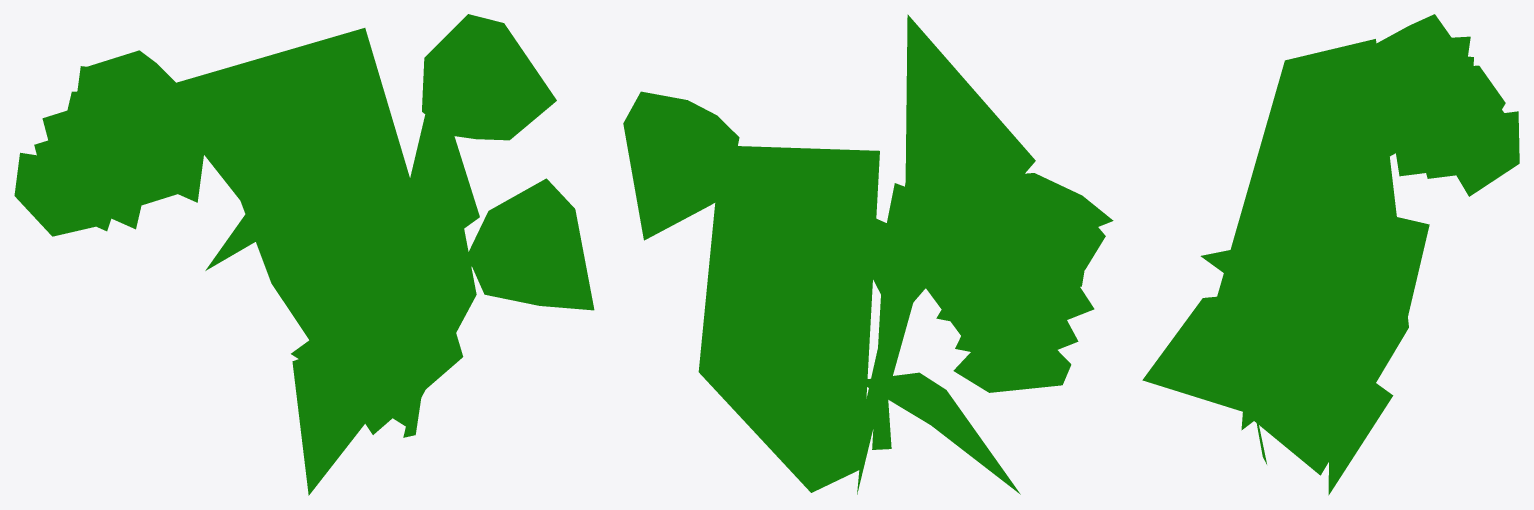
The model's file is Deathbells_1.fbx.
3 renders of one model, left to right at view 1: azimuth 30°, elevation 25°; view 2: azimuth 150°, elevation 25°; view 3: azimuth 270°, elevation 25°, orthographic. The views are drawn at different scales.
Parts seen in each view (by area): view 1: Deathbells_1; view 2: Deathbells_1; view 3: Deathbells_1.
Boxes of the visible parts, x1,y1,x2,y2 form: Deathbells_1: (14, 14, 594, 495); Deathbells_1: (623, 14, 1113, 494); Deathbells_1: (1142, 14, 1519, 495).
Size of the model in its own units: 47.32 by 43.93 by 36.95.
